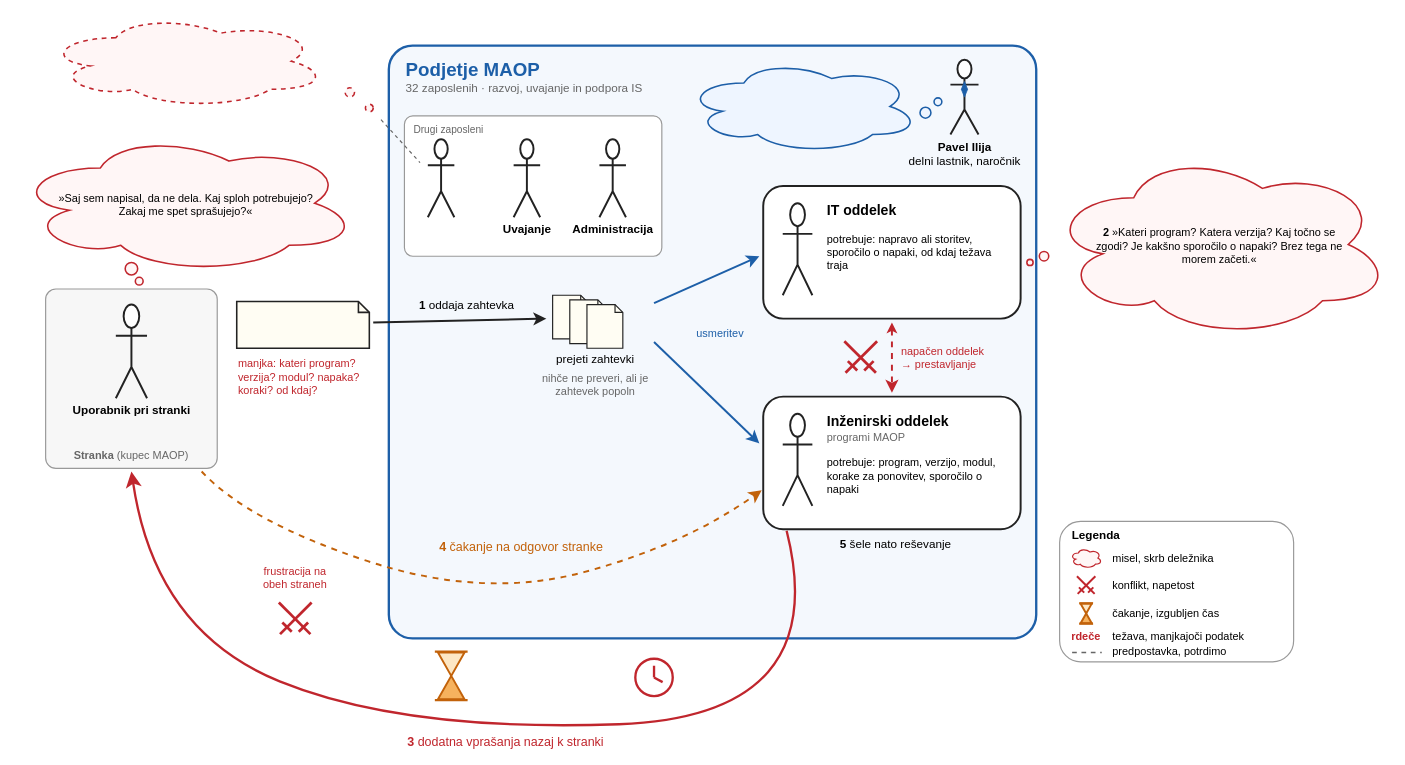
Image size: 1405x765. Some labels were removed from this diagram. Each missing label, with the centre of its shape:
"Prodaja" belongs at (x=441, y=178).
"»Obravnava zahtevkov traja predolgo.«" belongs at (x=802, y=106).
"»Program mi ne dela.«" belongs at (x=303, y=324).
"»Stranka sprašuje mene, kdaj bo rešeno.«" belongs at (x=185, y=60).
